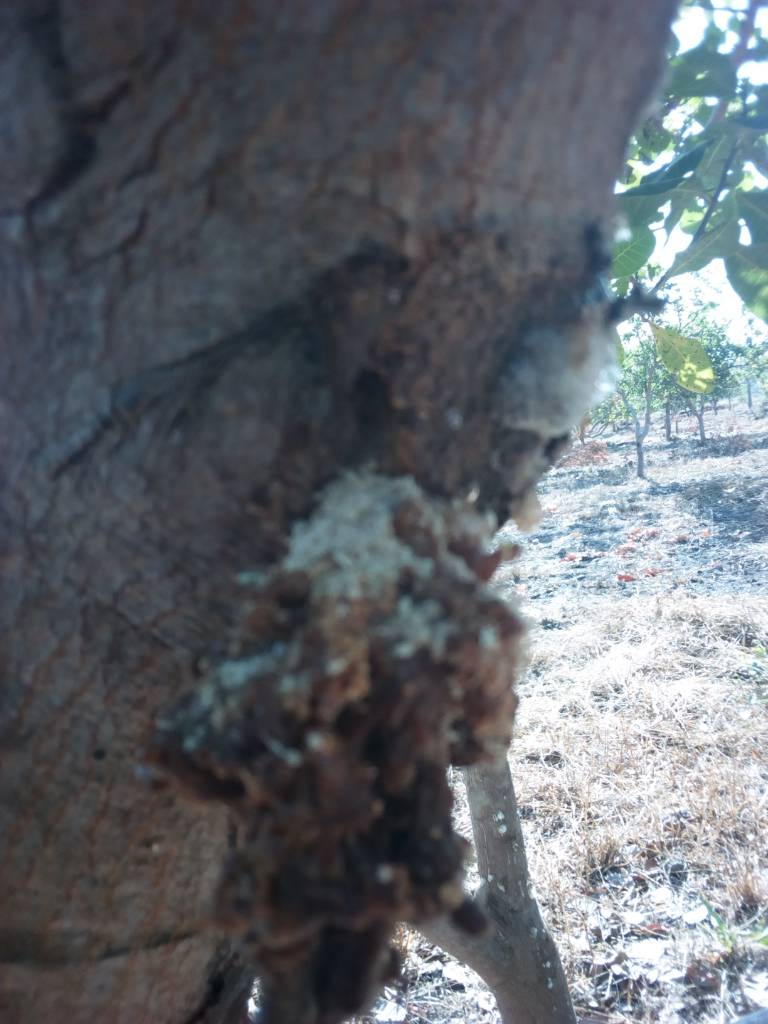Apate terebrans: (190, 402, 577, 902)
